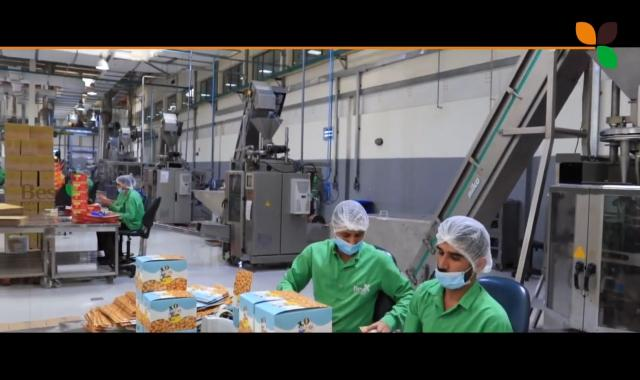hairnet: (434, 216, 493, 279), (331, 199, 369, 251), (113, 174, 135, 192)
